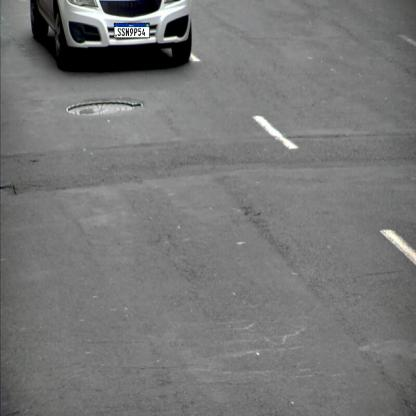PlacaM: (114, 23, 150, 38)
